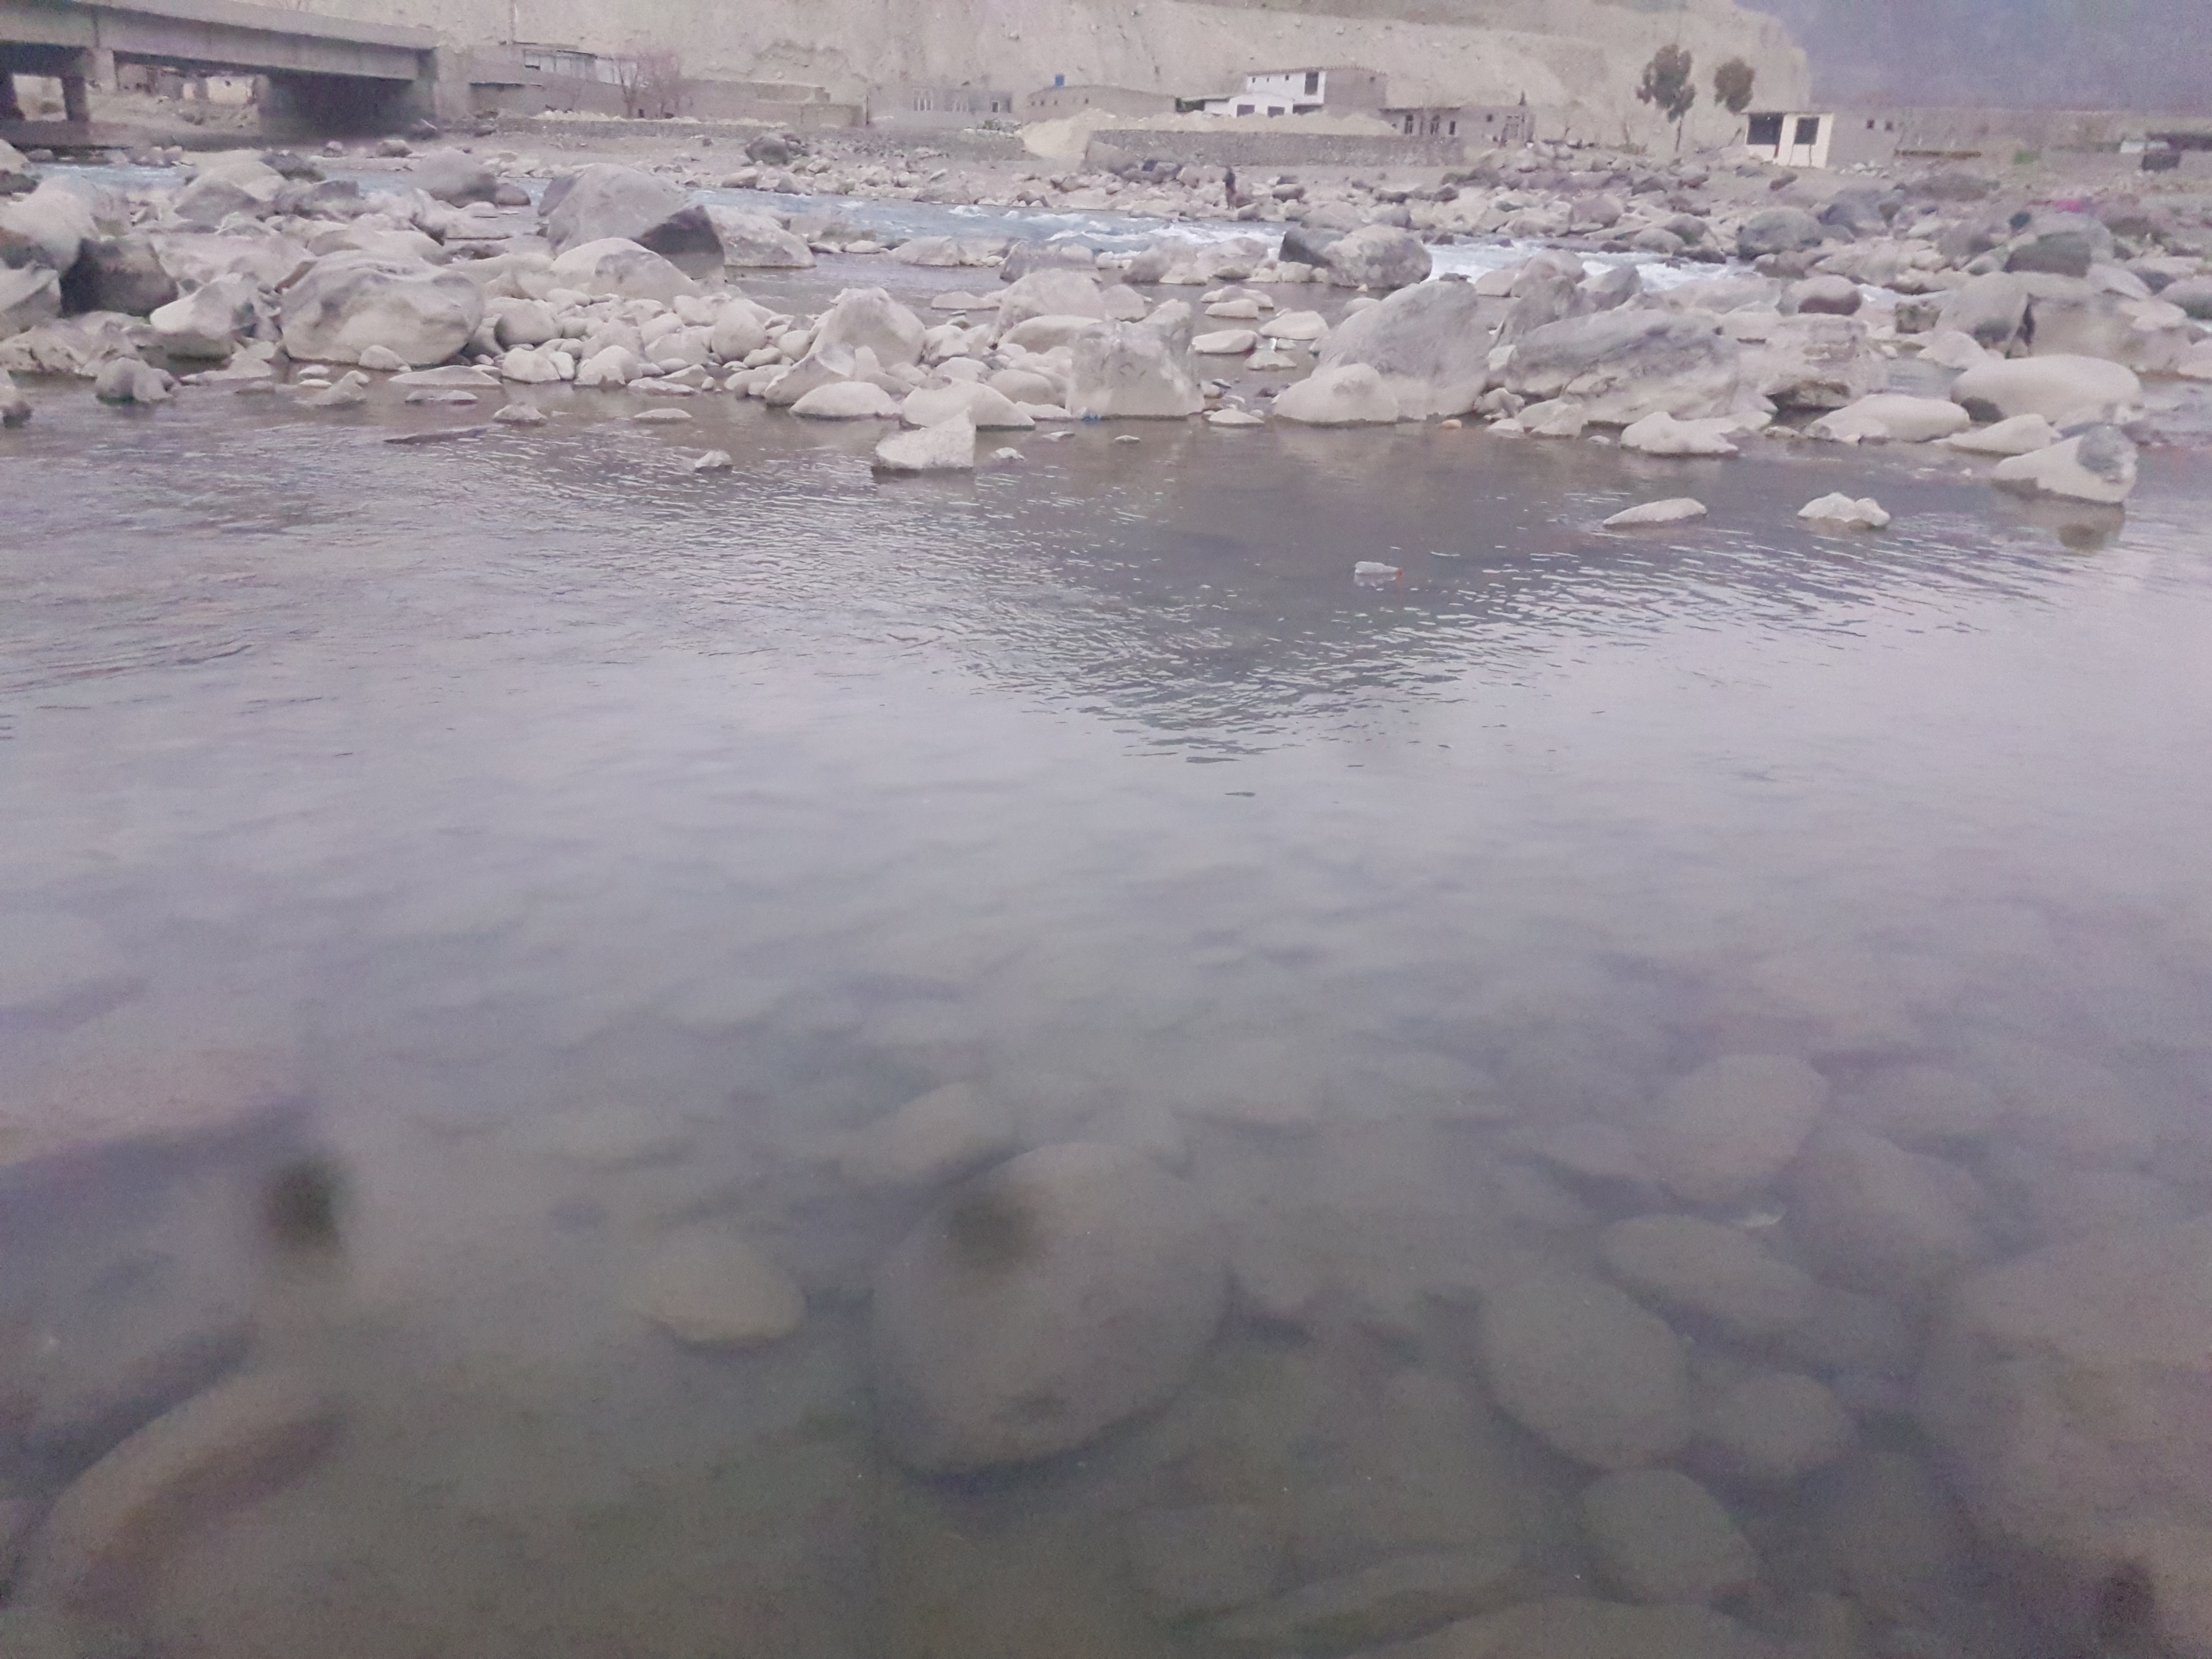Plastic Bottle: (1353, 561, 1402, 575), (1080, 413, 1101, 422), (871, 197, 878, 200)
